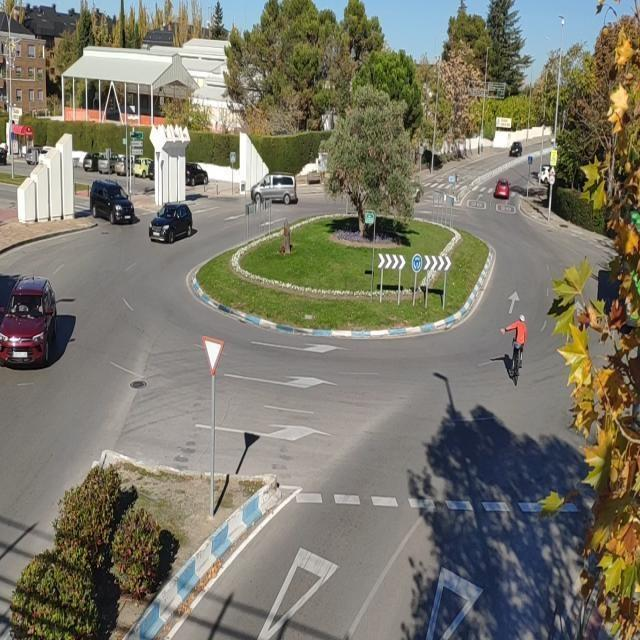Car: (0, 276, 58, 369), (148, 204, 192, 244), (494, 179, 511, 199), (509, 141, 522, 158)
Cycle: (506, 337, 525, 386)
Van: (89, 180, 135, 224), (251, 173, 297, 206)
